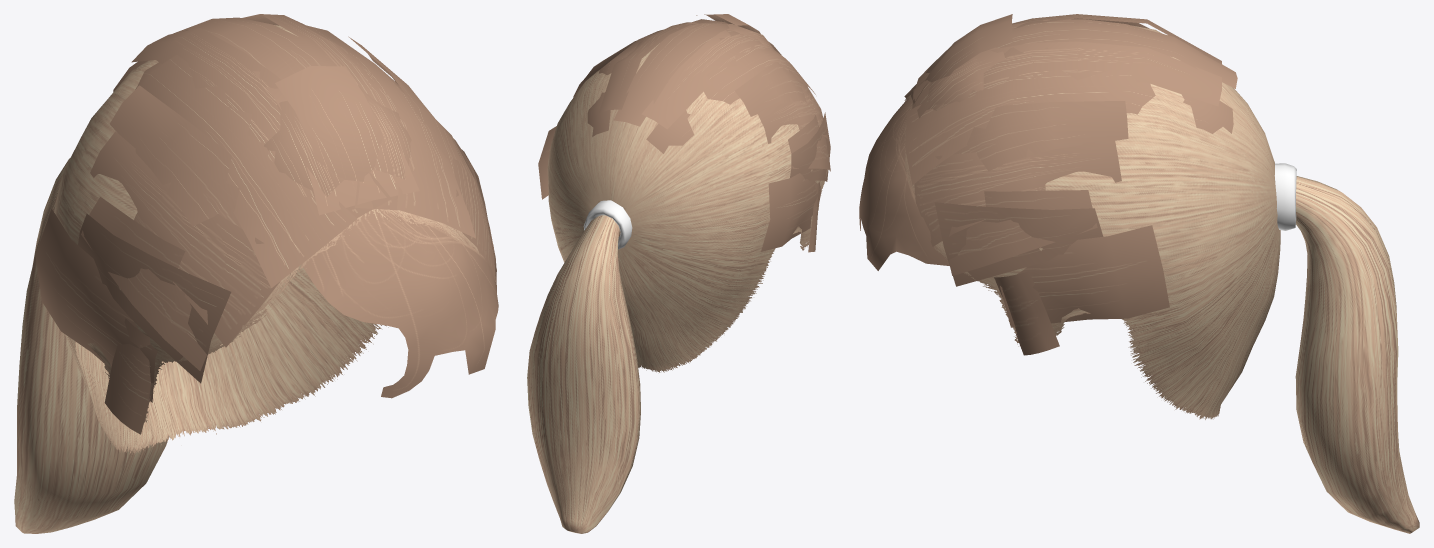
The model's file is hair_001.obj.
The picture shows the model from 3 angles, left to right: view 1: azimuth 30°, elevation 25°; view 2: azimuth 150°, elevation 25°; view 3: azimuth 270°, elevation 25°; orthographic projection. The views are drawn at different scales.
Size of the model in its own units: 16.55 by 26.44 by 25.91.
